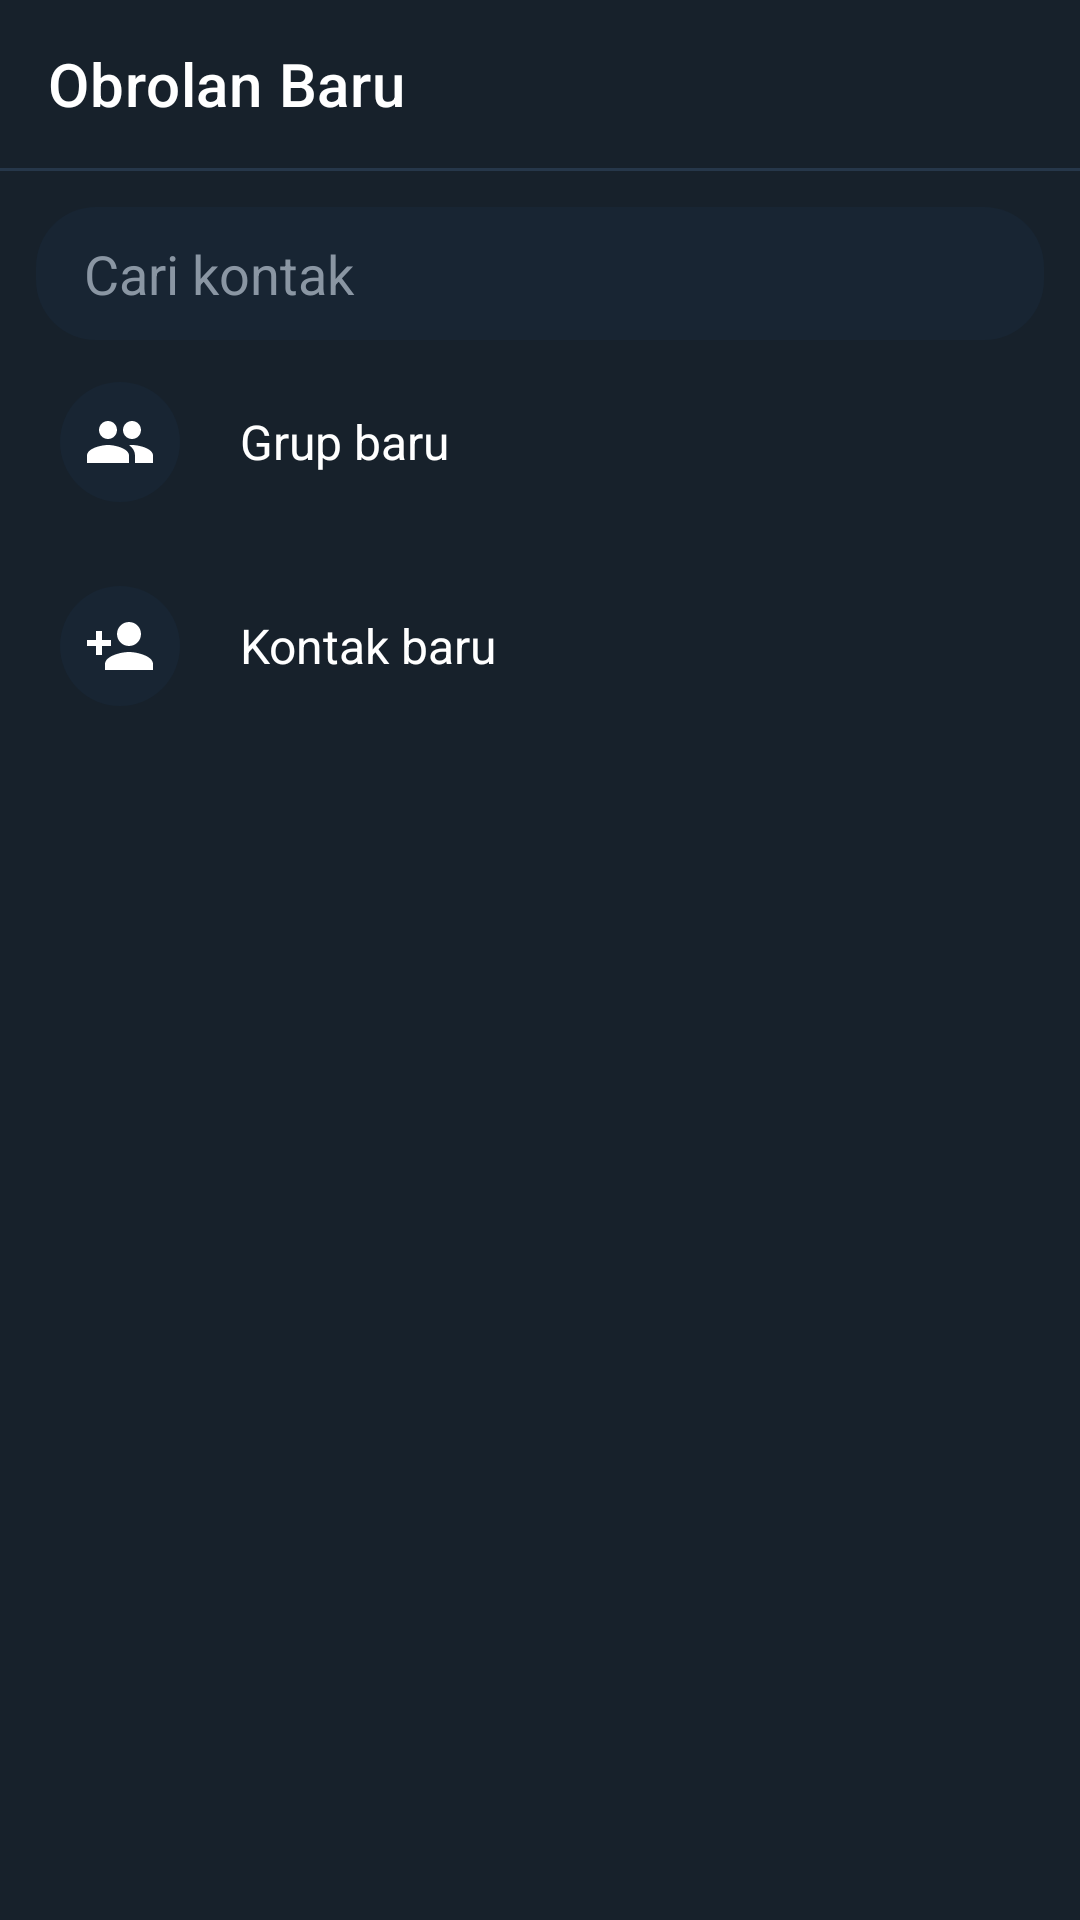

Screen size 1080px x 1920px. Icon name, then its center in pixels as [x,y]:
person add: [120,646]
